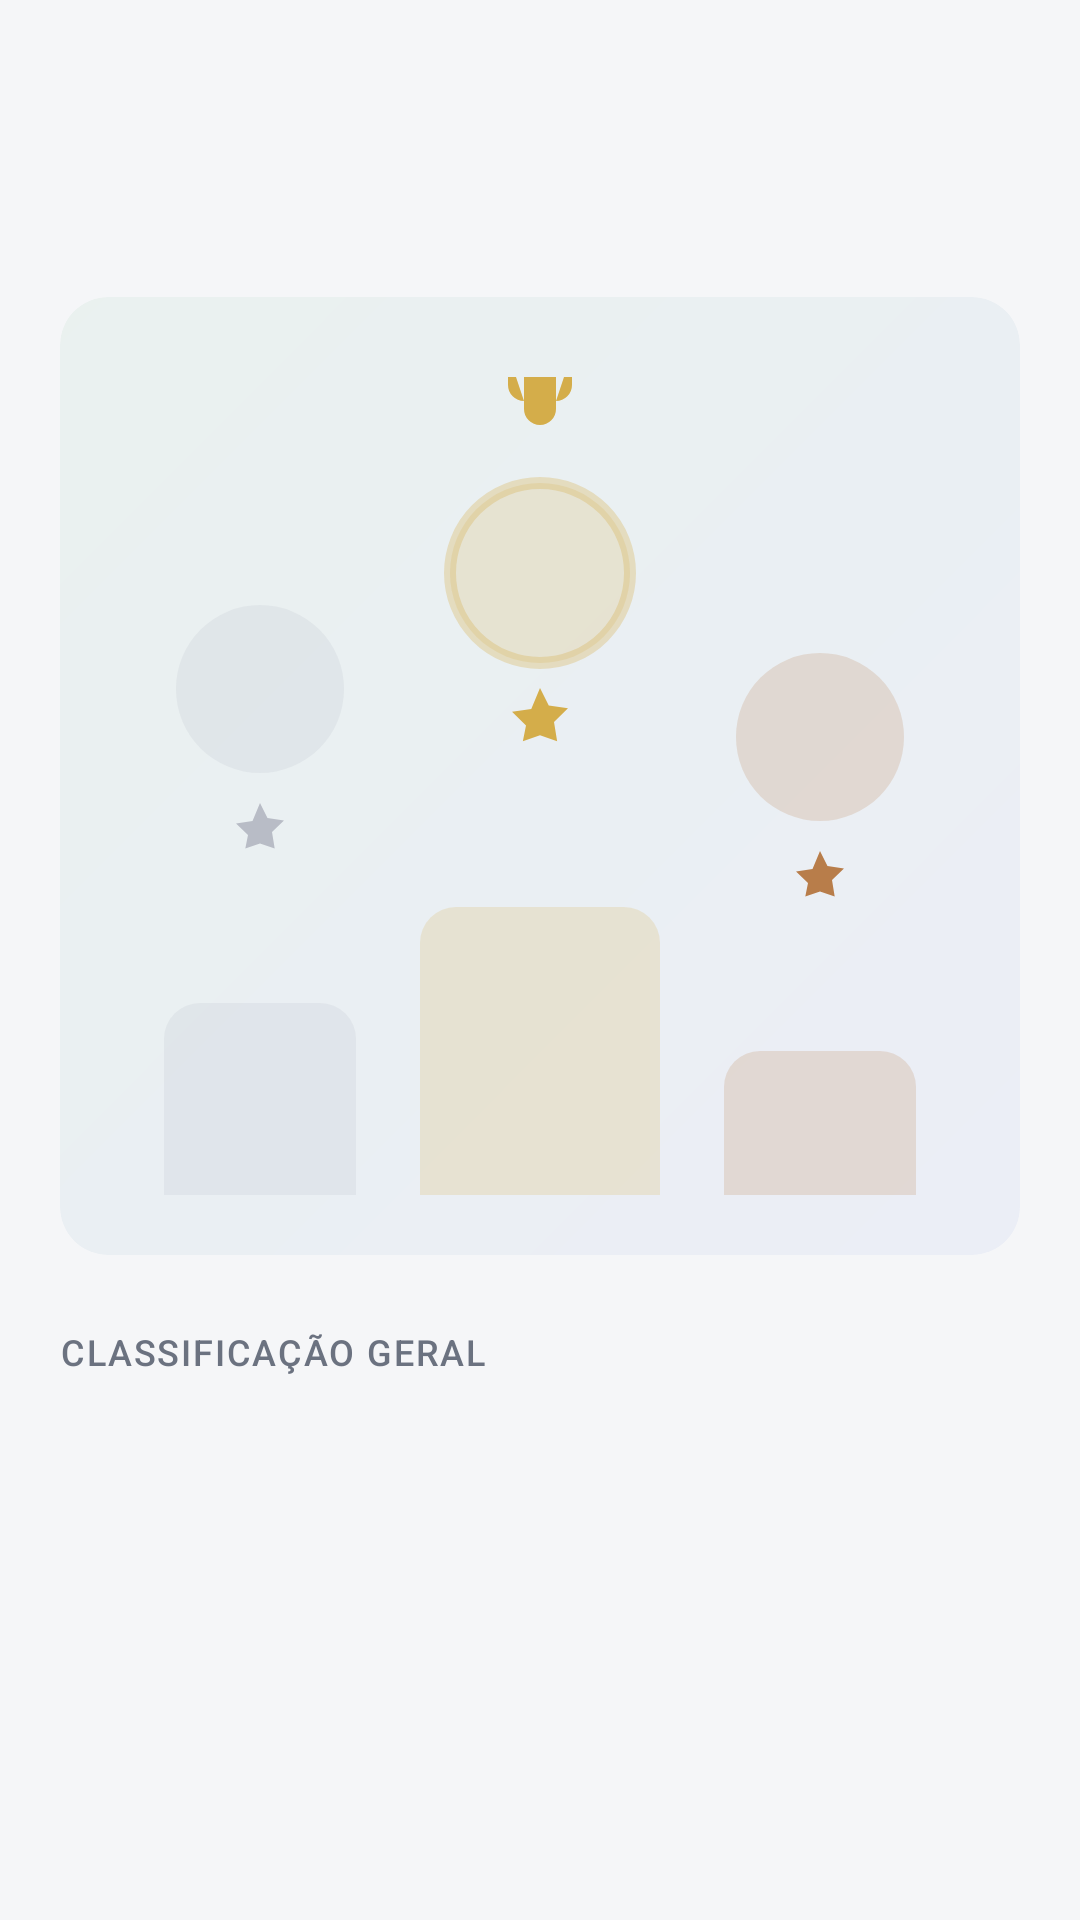

Icon click points for this 1080 × 1920 phone screenshot, format (x,y):
trophy: (540,401)
